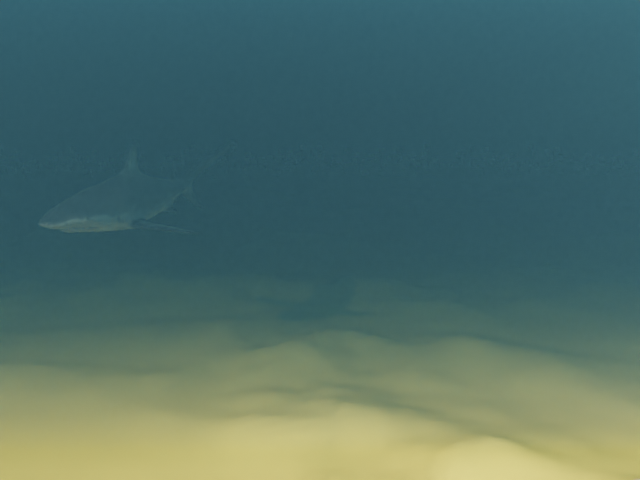Carribean Shark.001: (38, 142, 233, 234)
